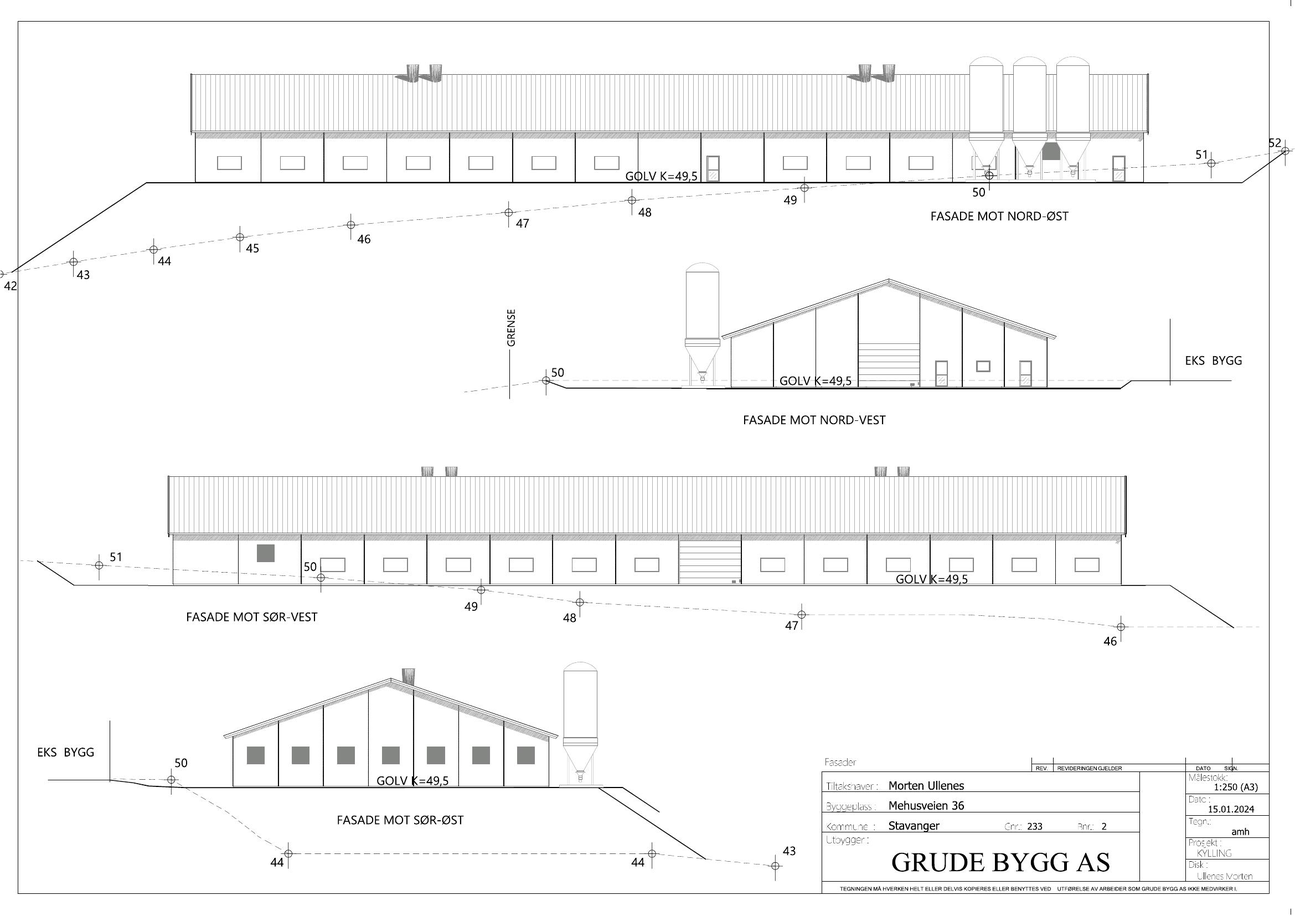fasade: (190, 53, 1151, 184), (167, 467, 1126, 588), (224, 668, 557, 790), (719, 279, 1057, 391)
